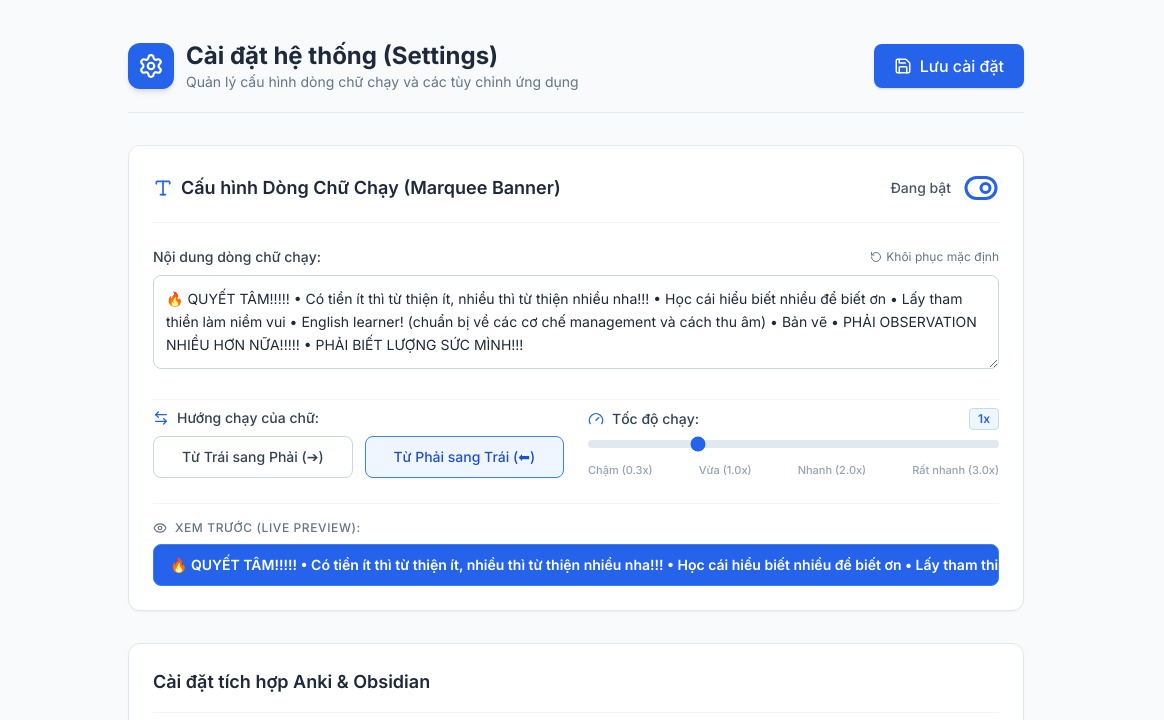
Test: SettingsPage › restores the default slogan when "Khôi phục mặc định" is clicked
Replace the text in the text box with placeholder "Nhập nội dung slogan hoặc câu nhắc nhở..." with "something custom": {"x": 576, "y": 322} [153,275,999,369]
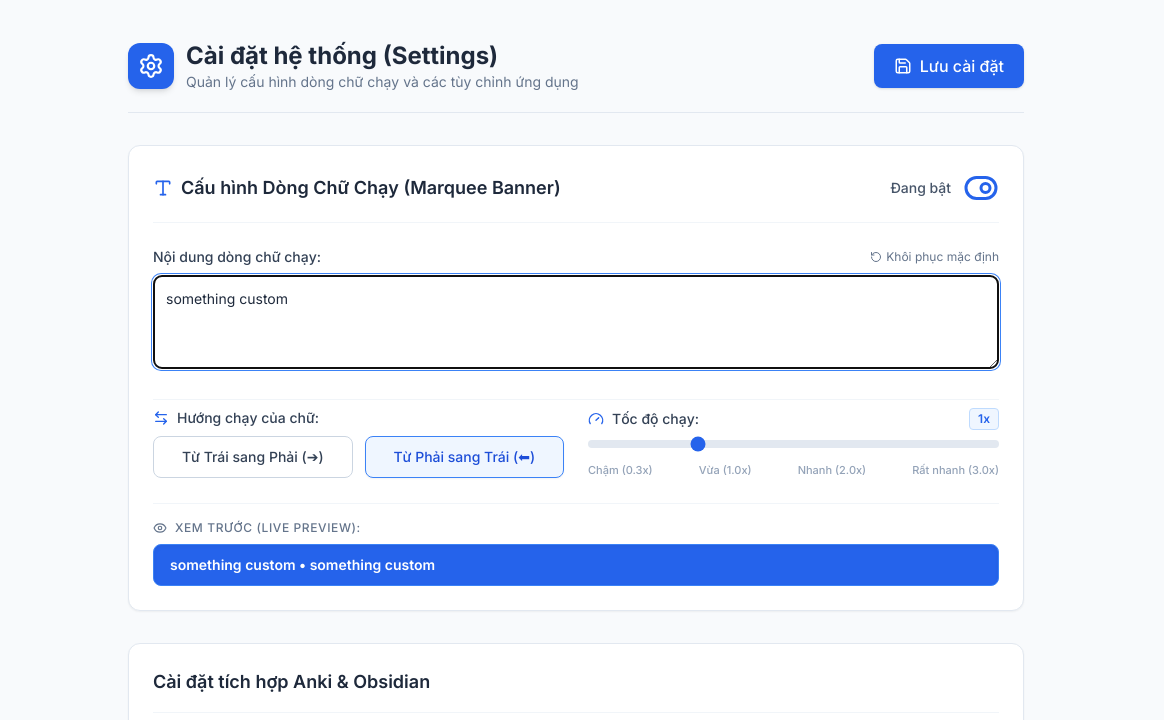
Click the button "Khôi phục mặc định": {"x": 935, "y": 257} [870,249,999,265]
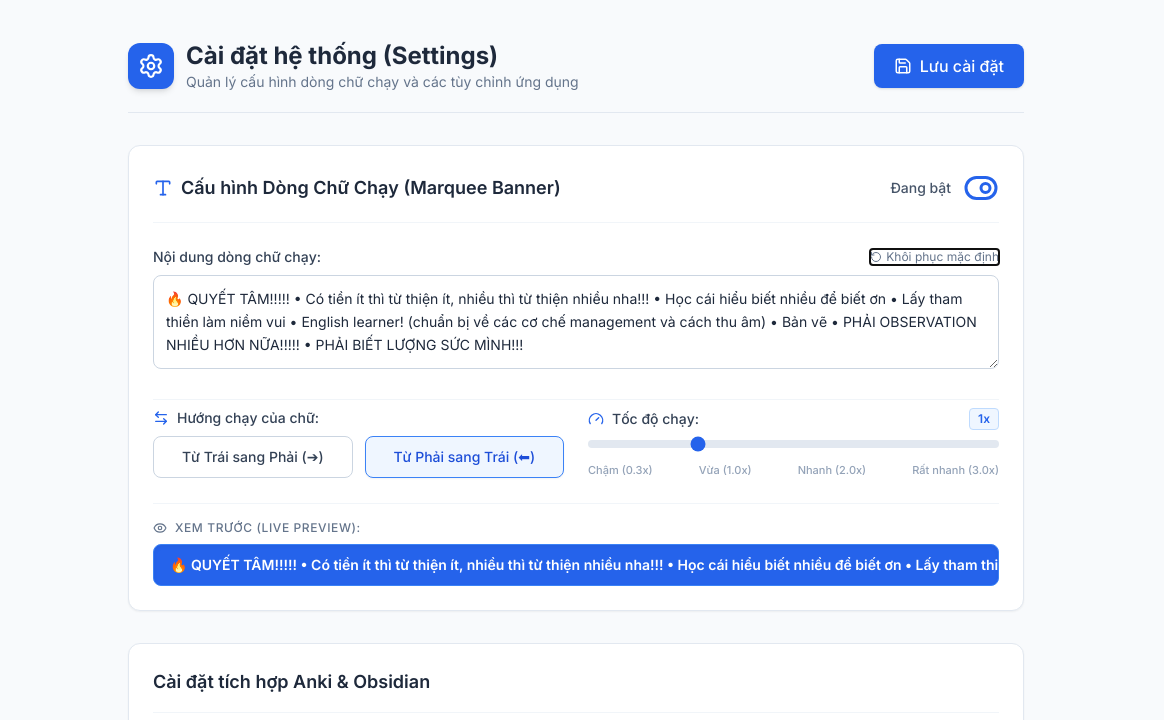
Expected: the text box showing "🔥 QUYẾT TÂM!!!!! • Có tiền ít thì từ thiện ít, nhiều thì từ thiện nhiều nha!!! • Học cái hiểu biết nhiều để biết ơn • Lấ" is shown, [153,275,999,369]
